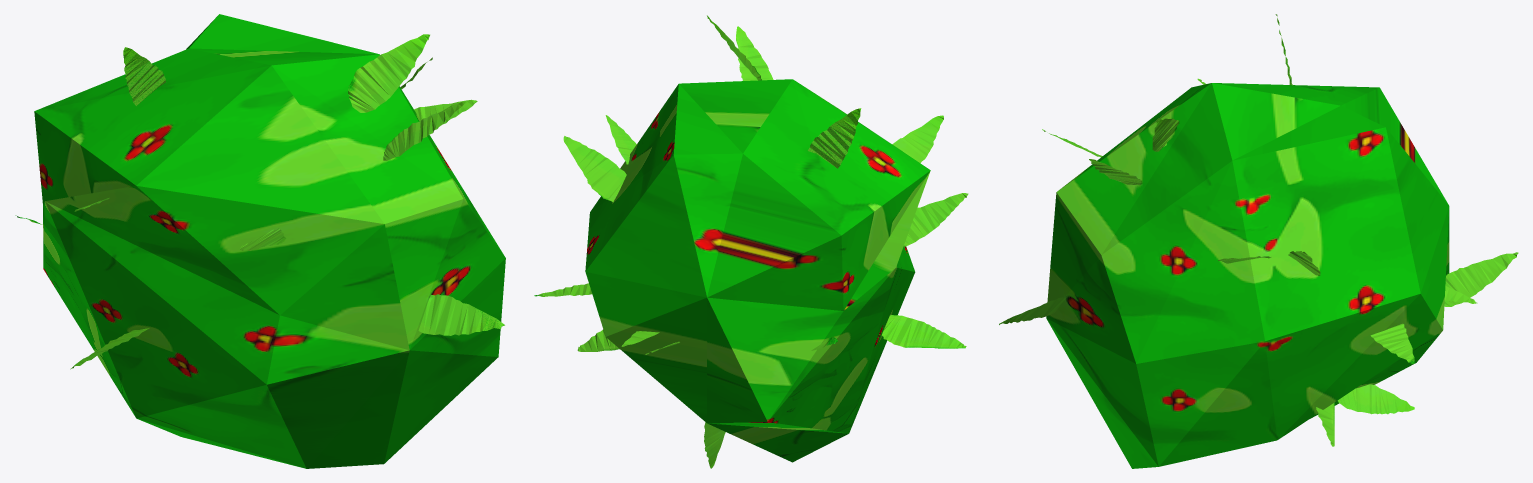
Rendered from Bush.glb.
The picture shows the model from 3 angles, left to right: view 1: azimuth 30°, elevation 25°; view 2: azimuth 150°, elevation 25°; view 3: azimuth 270°, elevation 25°; orthographic projection. The views are drawn at different scales.
Parts seen in each view (by area): view 1: Bush; view 2: Bush; view 3: Bush.
Boxes of the visible parts, bbox=[...] form: Bush: bbox=[15, 14, 505, 468]; Bush: bbox=[534, 15, 968, 468]; Bush: bbox=[999, 14, 1518, 468].
Bounding box in the file's own units: 19.18 × 18.51 × 22.83.
1 material, 1 textured.
